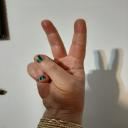PeaceSign: (28, 18, 94, 110)
